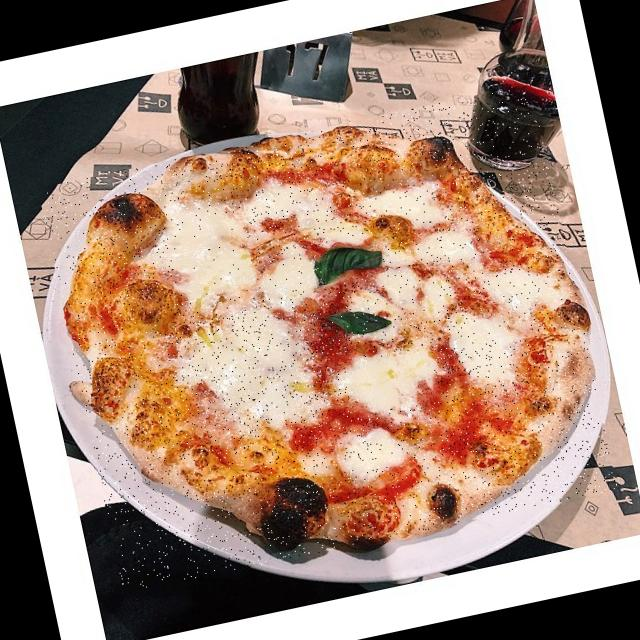Basil: (321, 294, 394, 348), (314, 232, 386, 284)
Cheese: (196, 312, 317, 437), (323, 417, 422, 502), (165, 212, 256, 302), (345, 346, 440, 416), (370, 253, 446, 319), (266, 181, 340, 245), (456, 310, 520, 376), (484, 264, 556, 322), (404, 222, 478, 278), (378, 183, 442, 235), (266, 248, 318, 300)
Pizza: (39, 83, 618, 594)
